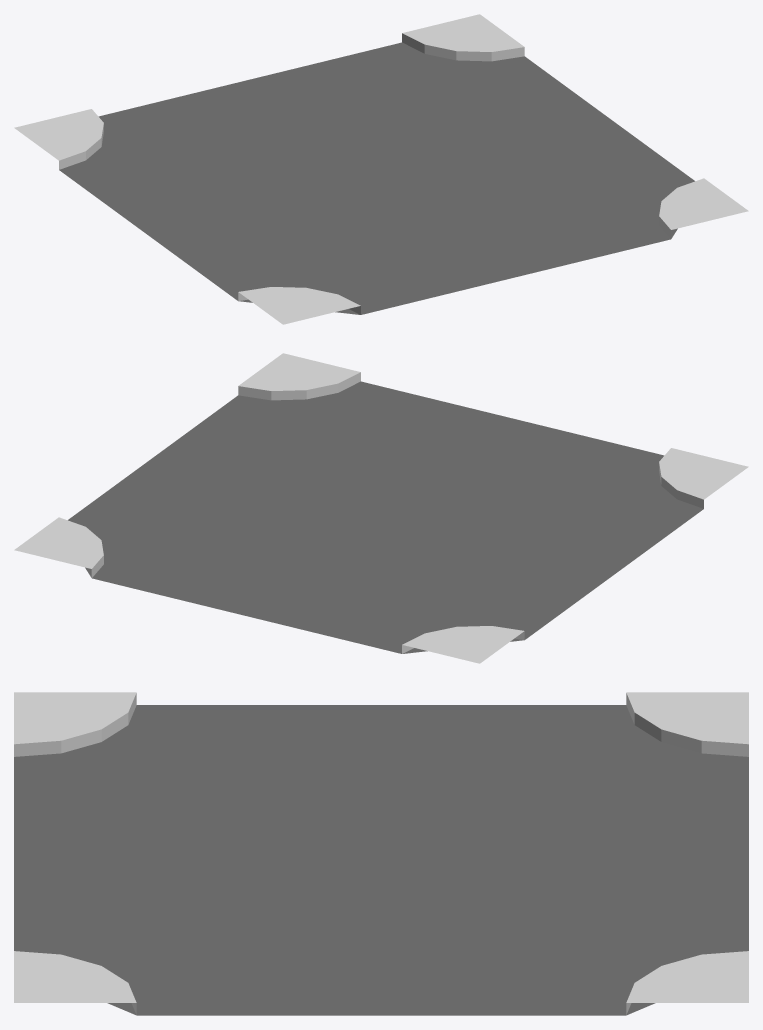
File: Road_Turn_360_1.fbx
3 renders of one model, top to bottom at view 1: azimuth 30°, elevation 25°; view 2: azimuth 150°, elevation 25°; view 3: azimuth 270°, elevation 25°, orthographic. The views are drawn at different scales.
Parts seen in each view (by area): view 1: Road_Turn_90_1; view 2: Road_Turn_90_1; view 3: Road_Turn_90_1.
Boxes of the visible parts, x1=… form: Road_Turn_90_1: x1=14, y1=14, x2=748, y2=324; Road_Turn_90_1: x1=14, y1=353, x2=748, y2=663; Road_Turn_90_1: x1=14, y1=692, x2=748, y2=1015.
Size of the model in its own units: 1297 by 24.69 by 1298.
